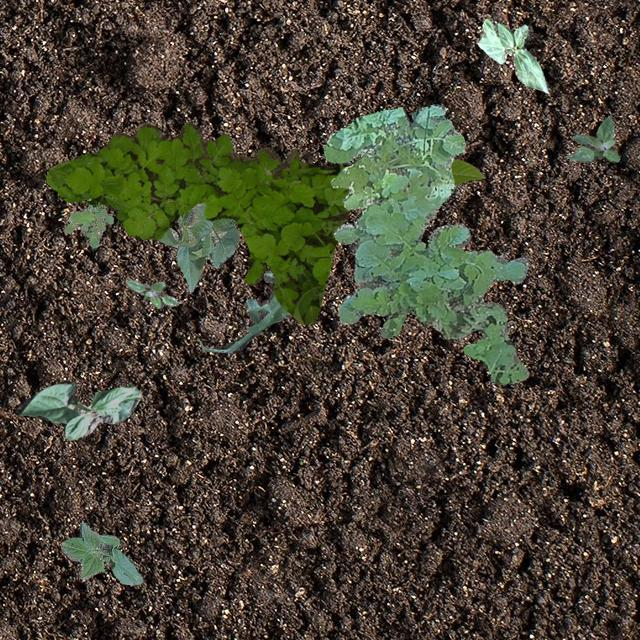crop: (15, 380, 140, 440), (200, 270, 290, 352), (158, 200, 238, 290), (476, 18, 550, 92), (60, 520, 142, 584), (449, 158, 484, 185)
weed: (45, 122, 348, 324), (322, 104, 528, 384), (564, 116, 618, 162), (62, 200, 112, 247), (126, 278, 178, 308)
